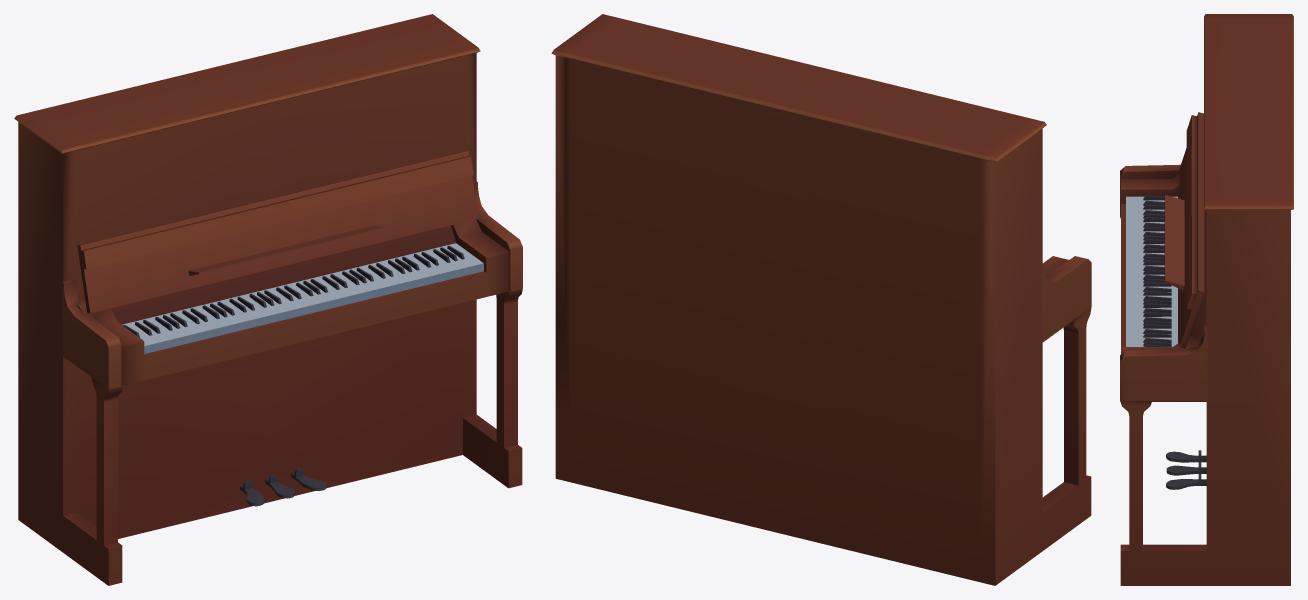
3 renders of one model, left to right at view 1: azimuth 30°, elevation 25°; view 2: azimuth 150°, elevation 25°; view 3: azimuth 270°, elevation 25°, orthographic. The views are drawn at different scales.
Visible parts, largest first — view 1: Piano; view 2: Piano; view 3: Piano.
Boxes of the visible parts, x1,y1,x2,y2 form: Piano: (14,14,522,585); Piano: (551,14,1091,585); Piano: (1120,14,1293,585).
Size of the model in its own units: 0.5 by 0.4607 by 0.1904.
